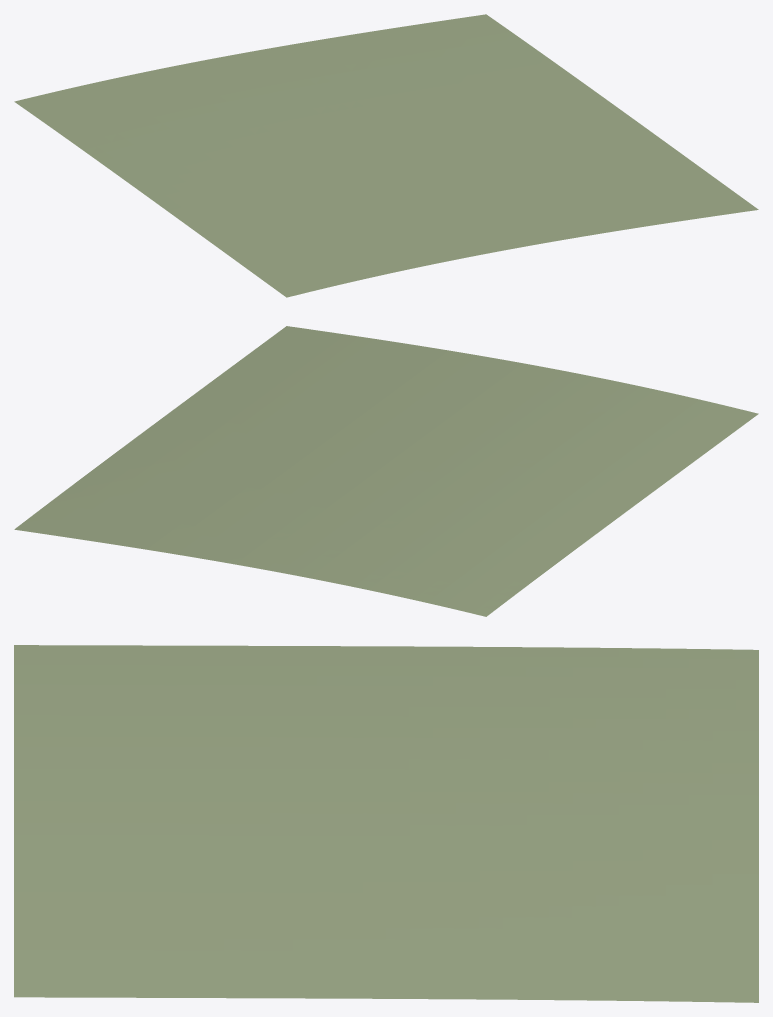
Rendered from valley-11-10.glb.
The picture shows the model from 3 angles, top to bottom: view 1: azimuth 30°, elevation 25°; view 2: azimuth 150°, elevation 25°; view 3: azimuth 270°, elevation 25°; orthographic projection. The views are drawn at different scales.
Visible parts, largest first — view 1: valley-11-10; view 2: valley-11-10; view 3: valley-11-10.
Part boxes in pixels (x1,y1,x2,y2): valley-11-10: (14, 14, 758, 297); valley-11-10: (14, 326, 758, 616); valley-11-10: (14, 645, 758, 1002).
Size of the model in its own units: 256 by 16.33 by 256.
